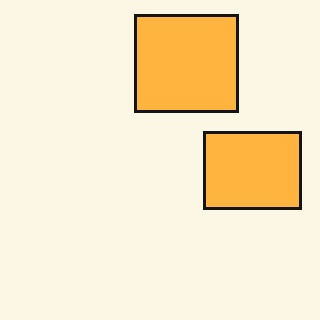square_target: (135, 15, 238, 112), (203, 132, 302, 209)
